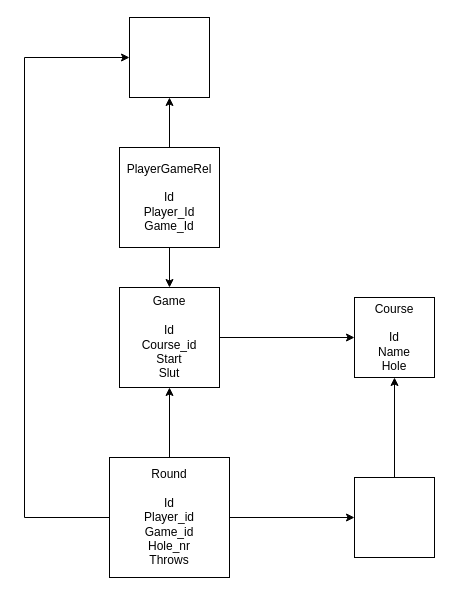
Some shapes in this 452 by 595 pixel diagram are drawn without their labels. The shapes that lost their labels are listed below. From the top down, each one's box as (x1, y1, x2, y2) in pixels, then its label:
(128, 16, 210, 98): Player Id Navn
(354, 476, 434, 558): Hole Nr Pair
